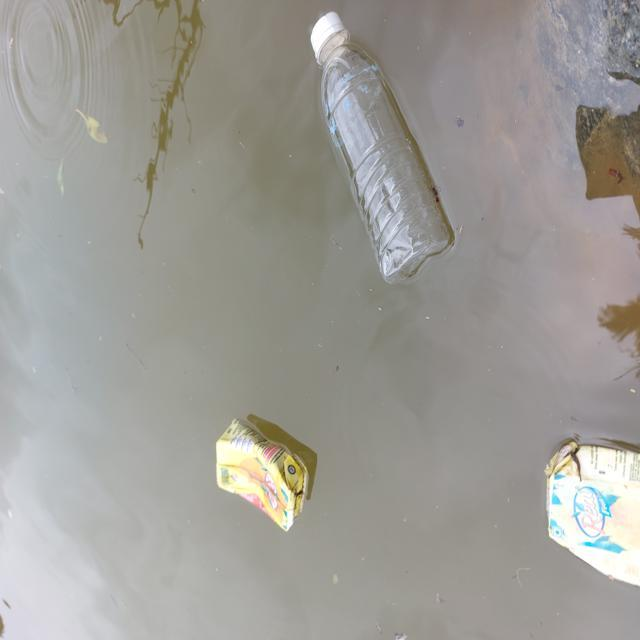paper: (535, 439, 640, 605), (205, 414, 331, 536)
waterbottle: (297, 0, 457, 284)
